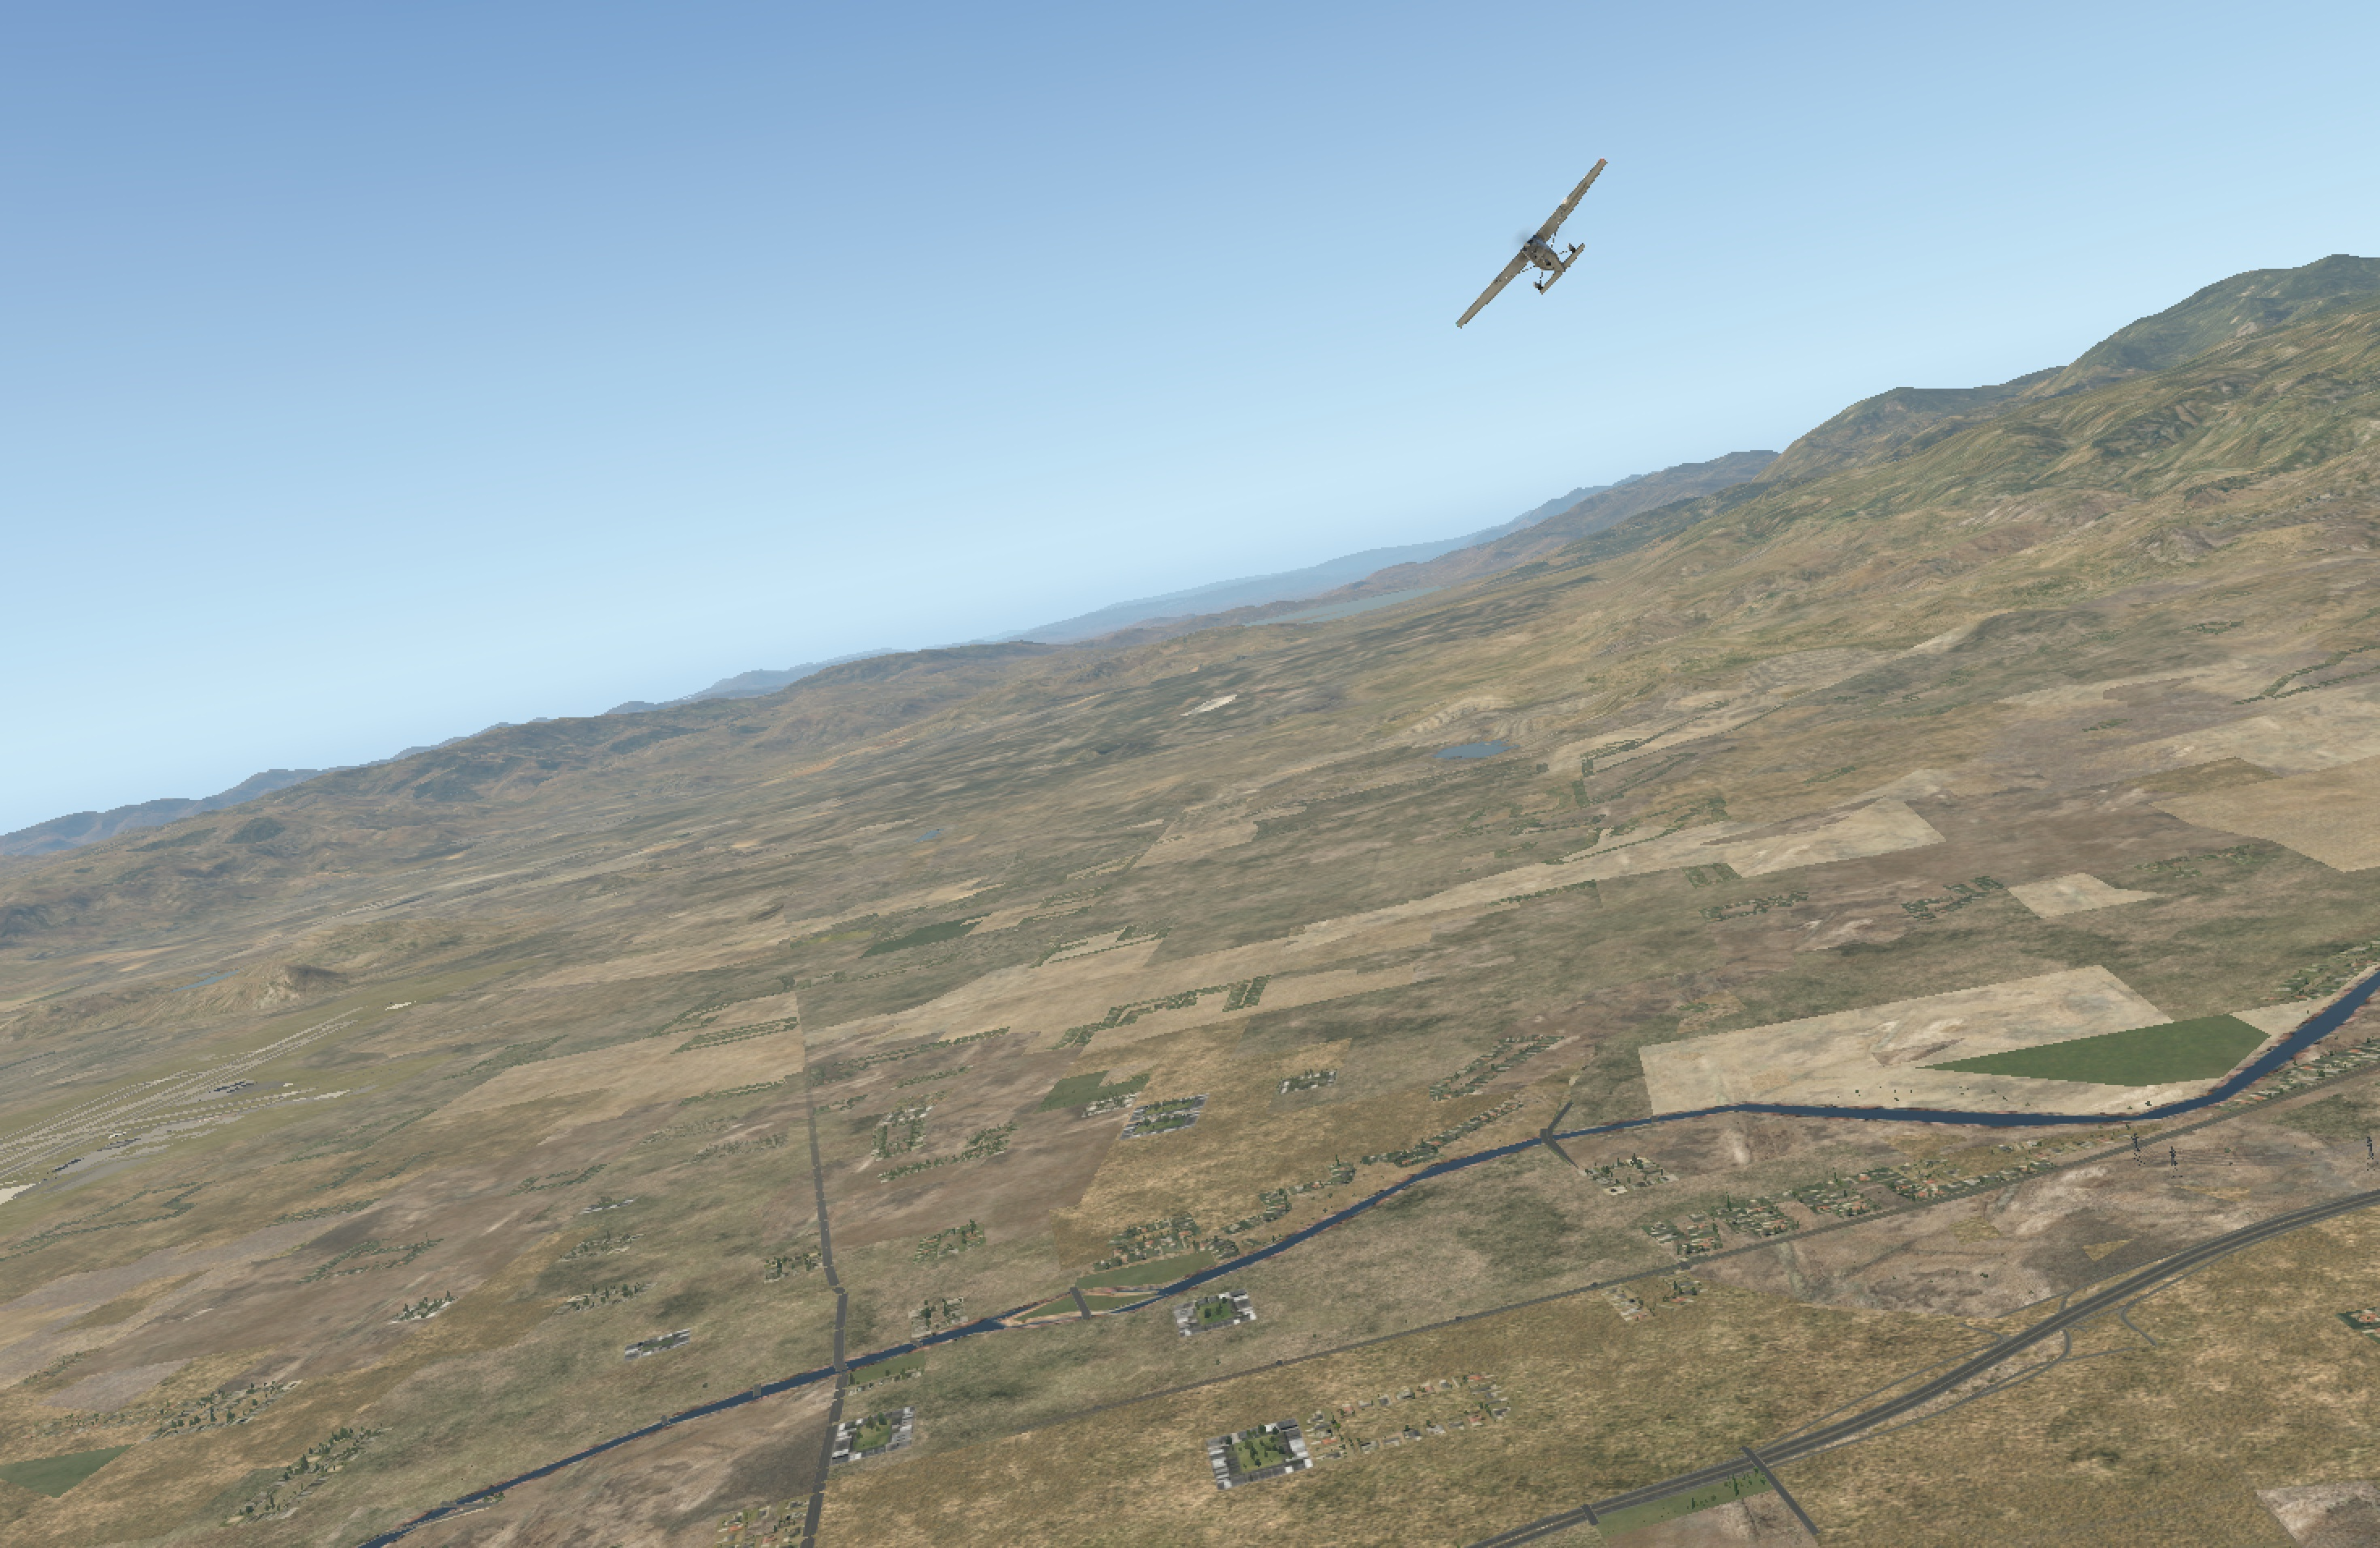aircraft: (1464, 224, 1612, 279)
